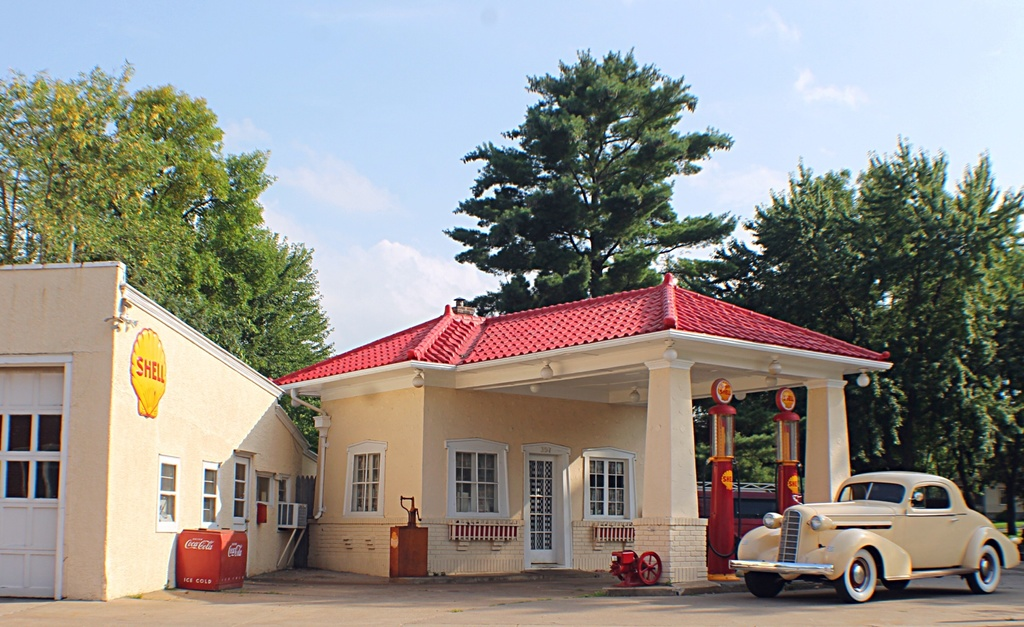Car: (727, 473, 1020, 603)
